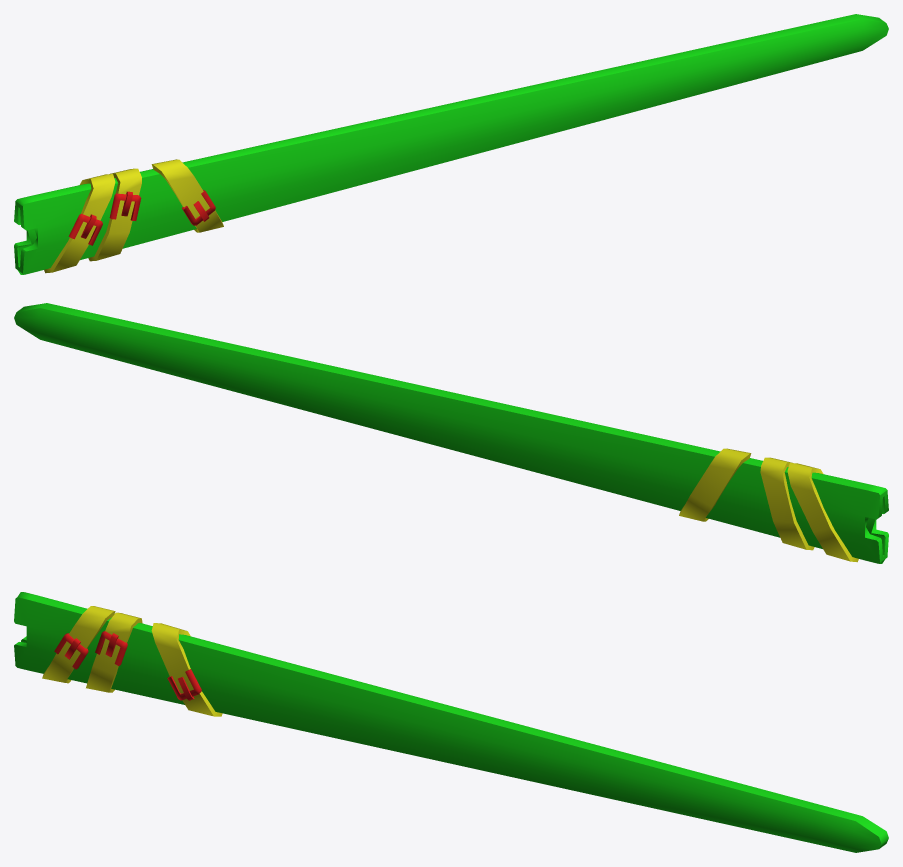
File: DurandalSheathe.fbx
3 views of the same model, one above another, from view 1: azimuth 30°, elevation 25°; view 2: azimuth 150°, elevation 25°; view 3: azimuth 330°, elevation 25° (orthographic).
Parts seen in each view (by area): view 1: Durandal - Sheathe; view 2: Durandal - Sheathe; view 3: Durandal - Sheathe.
Part boxes in pixels (x1,y1,x2,y2): Durandal - Sheathe: (14, 14, 888, 274); Durandal - Sheathe: (14, 303, 888, 563); Durandal - Sheathe: (14, 592, 888, 852).
Bounding box in the file's own units: 124 × 11.42 × 4.27.
